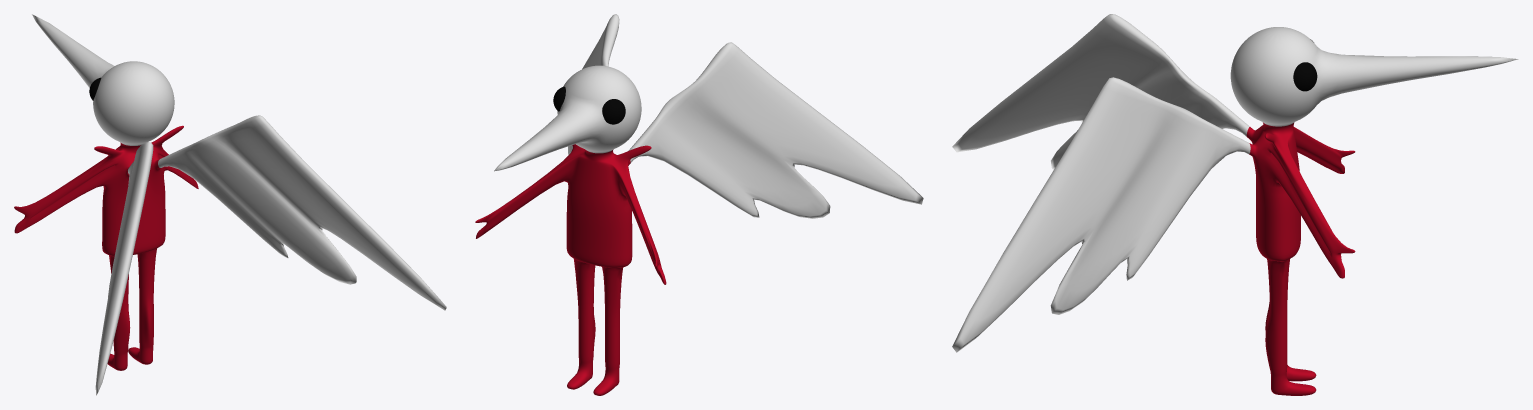
File: Enemy1.fbx
The picture shows the model from 3 angles, left to right: view 1: azimuth 30°, elevation 25°; view 2: azimuth 150°, elevation 25°; view 3: azimuth 270°, elevation 25°; orthographic projection. The views are drawn at different scales.
Visible parts, largest first — view 1: Sphere; view 2: Sphere; view 3: Sphere.
Part boxes in pixels (<box>): Sphere: <box>14,14,446,395</box>; Sphere: <box>475,14,923,395</box>; Sphere: <box>952,14,1518,395</box>.
Bounding box in the file's own units: 950 × 788 × 1136.
